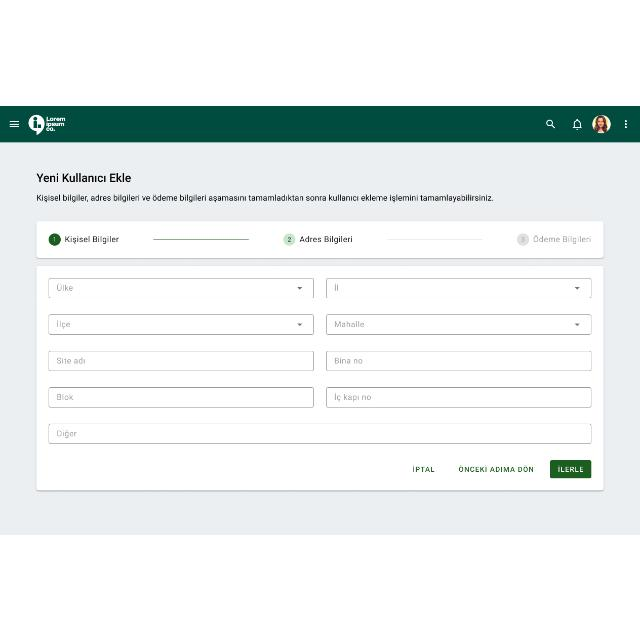QLabel: (36, 192, 494, 202), (35, 170, 132, 183), (458, 465, 534, 473), (532, 233, 592, 243), (64, 234, 120, 244), (298, 234, 354, 242), (556, 463, 584, 472), (410, 464, 436, 472)
VAppBar: (0, 106, 640, 140)
VAvatar: (592, 115, 610, 133)
VBtn: (548, 459, 592, 479)
VCombobox: (48, 312, 314, 336), (48, 276, 314, 298), (326, 276, 592, 298), (326, 314, 592, 334)
VDivider: (151, 236, 251, 242), (385, 236, 483, 240)
VIcon: (570, 118, 584, 130), (8, 118, 20, 128), (544, 118, 556, 128), (622, 118, 630, 130)
VImg: (26, 112, 68, 136)
VStepper: (31, 215, 607, 499)
VTextField: (48, 422, 592, 444), (324, 384, 592, 408), (48, 348, 314, 372), (48, 386, 314, 408), (326, 349, 592, 371)
